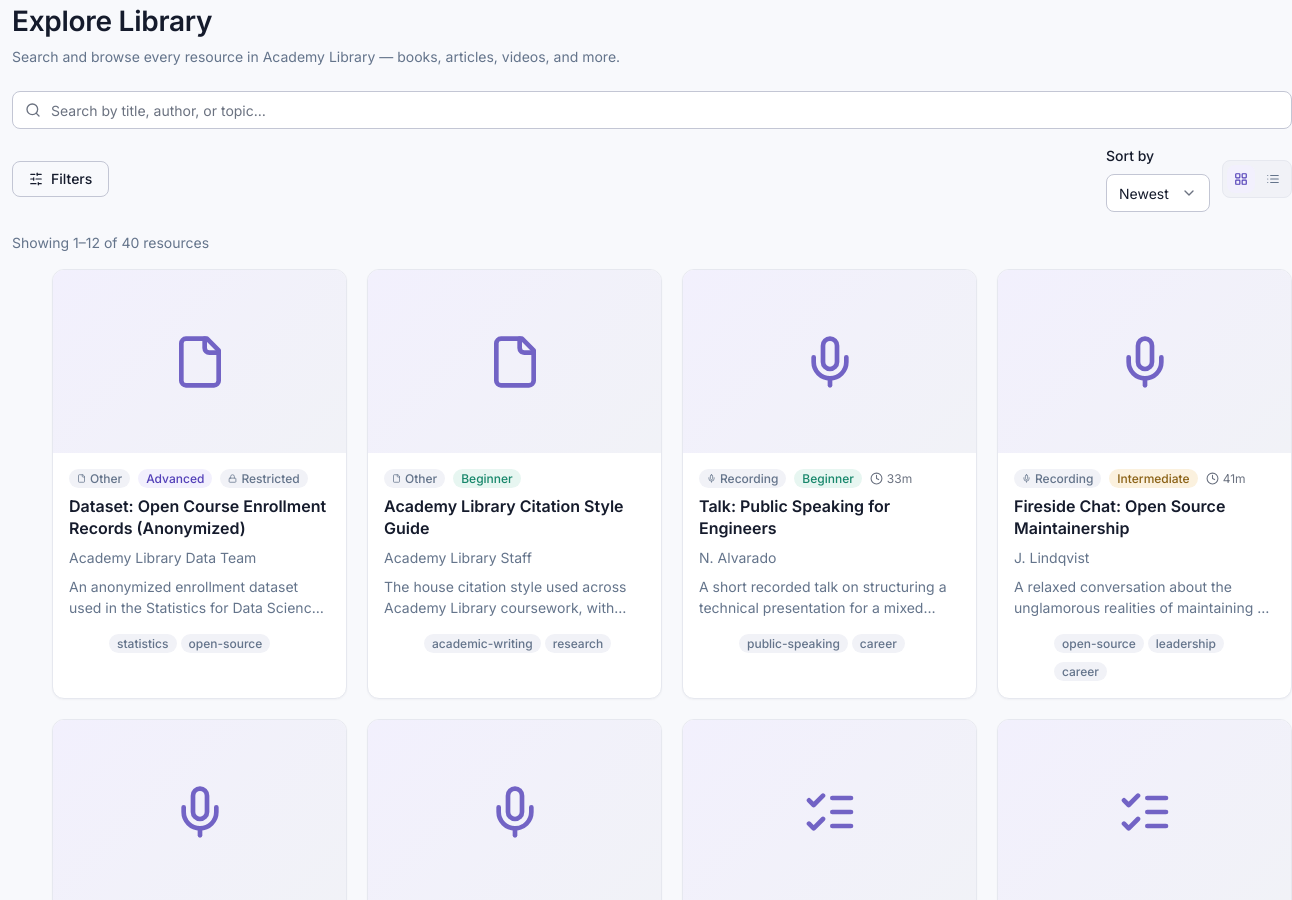
Scenario: LibraryPage › filters results as the user types in the search field (debounced)
expect the text "Showing 1–12 of 40 resources" is shown: met, box [12, 234, 209, 251]
Type "postgres" into the field named "Search the library" at coordinates (664, 110), box [49, 92, 1279, 128]
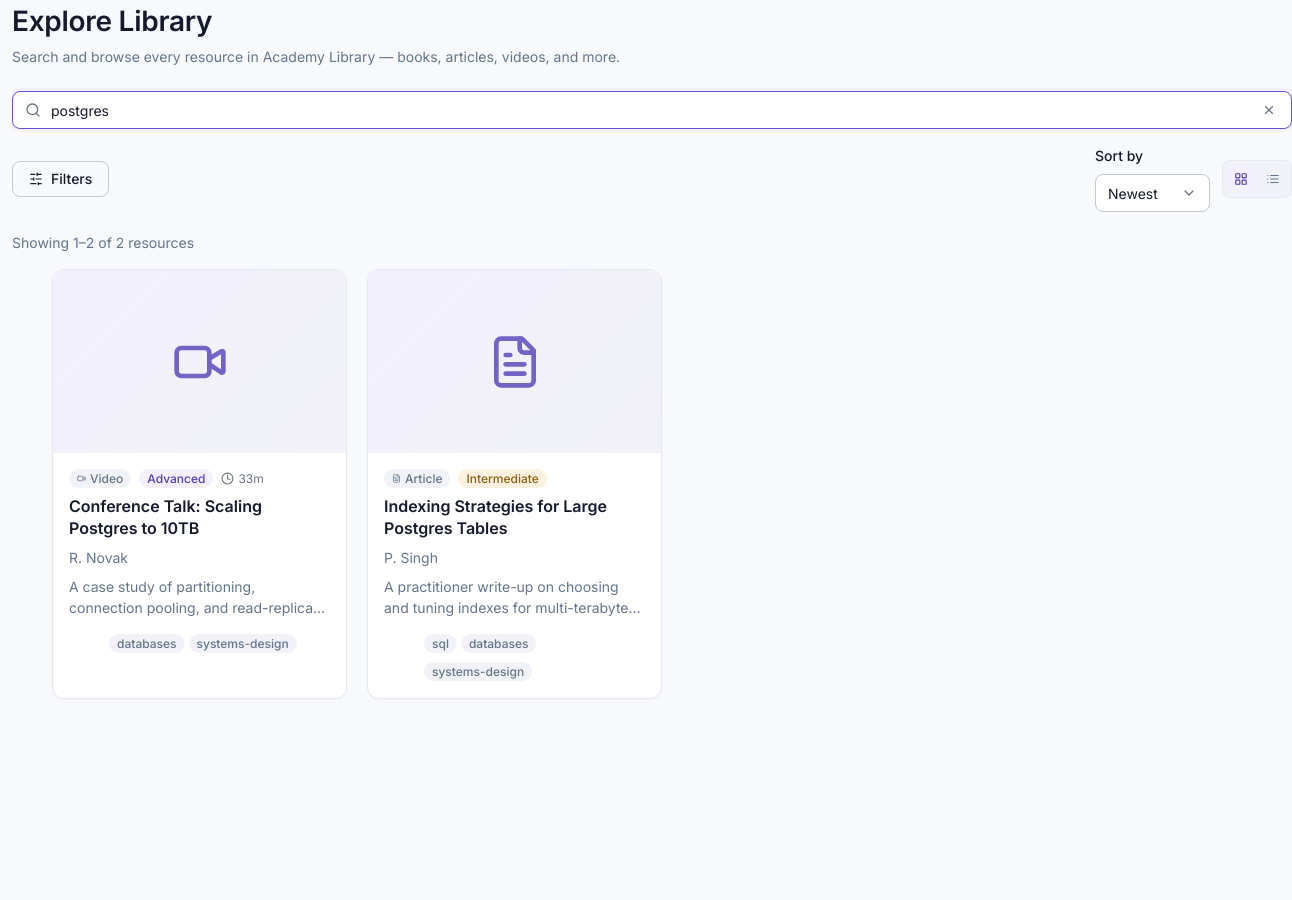
expect the text "Showing 1–2 of 2 resources" is shown: met, box [12, 234, 194, 251]
expect the heading "Indexing Strategies for Large Postgres Tables" is shown: met, box [384, 496, 645, 539]
